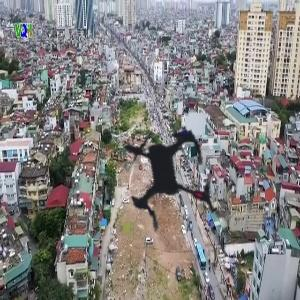drone: (52, 65, 275, 288)
